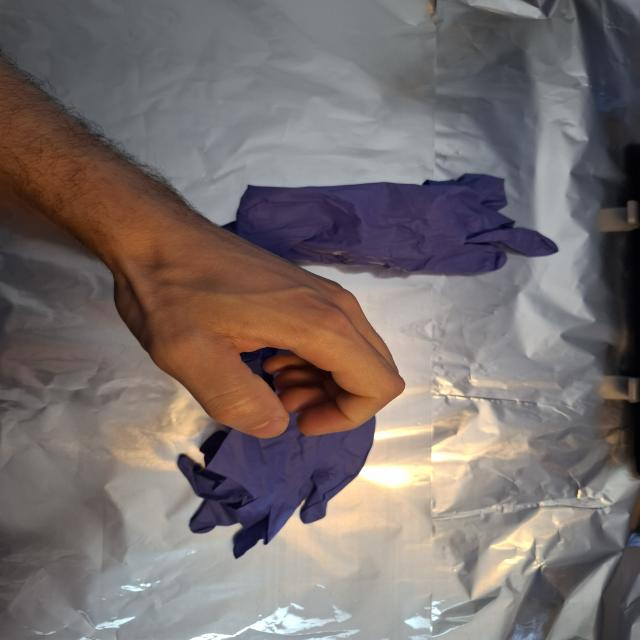glove_off: (109, 225, 408, 440)
